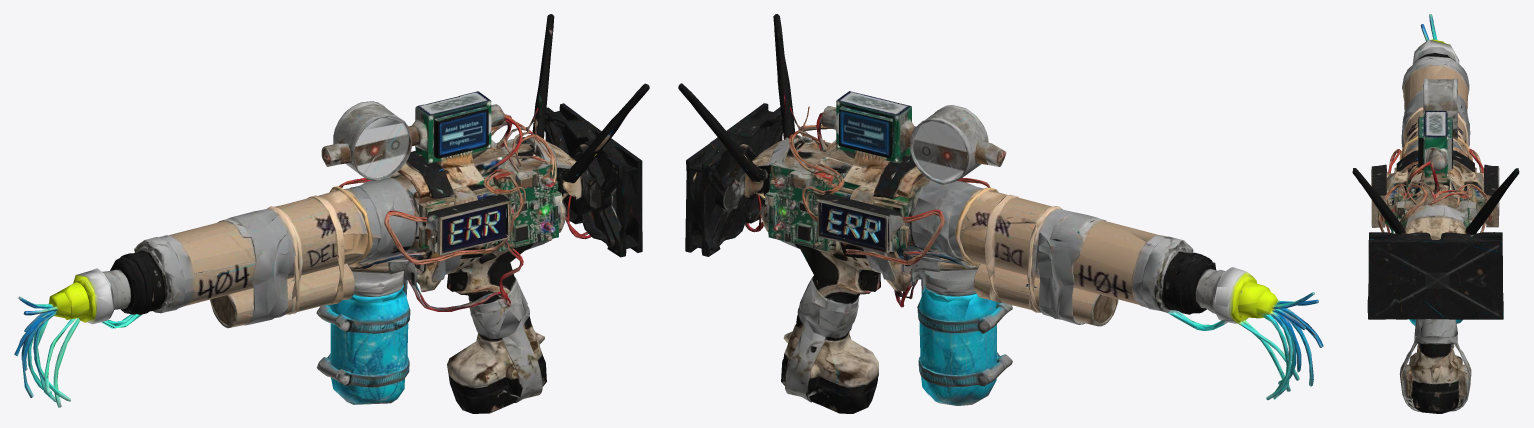
Rendered from gun.glb.
3 renders of one model, left to right at view 1: azimuth 30°, elevation 25°; view 2: azimuth 150°, elevation 25°; view 3: azimuth 270°, elevation 25°, orthographic. The views are drawn at different scales.
Visible parts, largest first — view 1: output_unwrapped; view 2: output_unwrapped; view 3: output_unwrapped.
Boxes of the visible parts, x1,y1,x2,y2 form: output_unwrapped: (14,14,649,413); output_unwrapped: (678,14,1323,413); output_unwrapped: (1352,14,1519,413).
Bounding box in the file's own units: 1.9 × 1.01 × 0.5418.
1 material, 1 textured.
